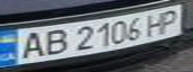0: (109, 18, 133, 45)
1: (93, 19, 115, 47)
2: (72, 22, 96, 52)
6: (124, 15, 148, 42)
A: (12, 29, 51, 61)
B: (36, 27, 72, 56)
H: (142, 9, 169, 37)
P: (154, 7, 184, 35)
